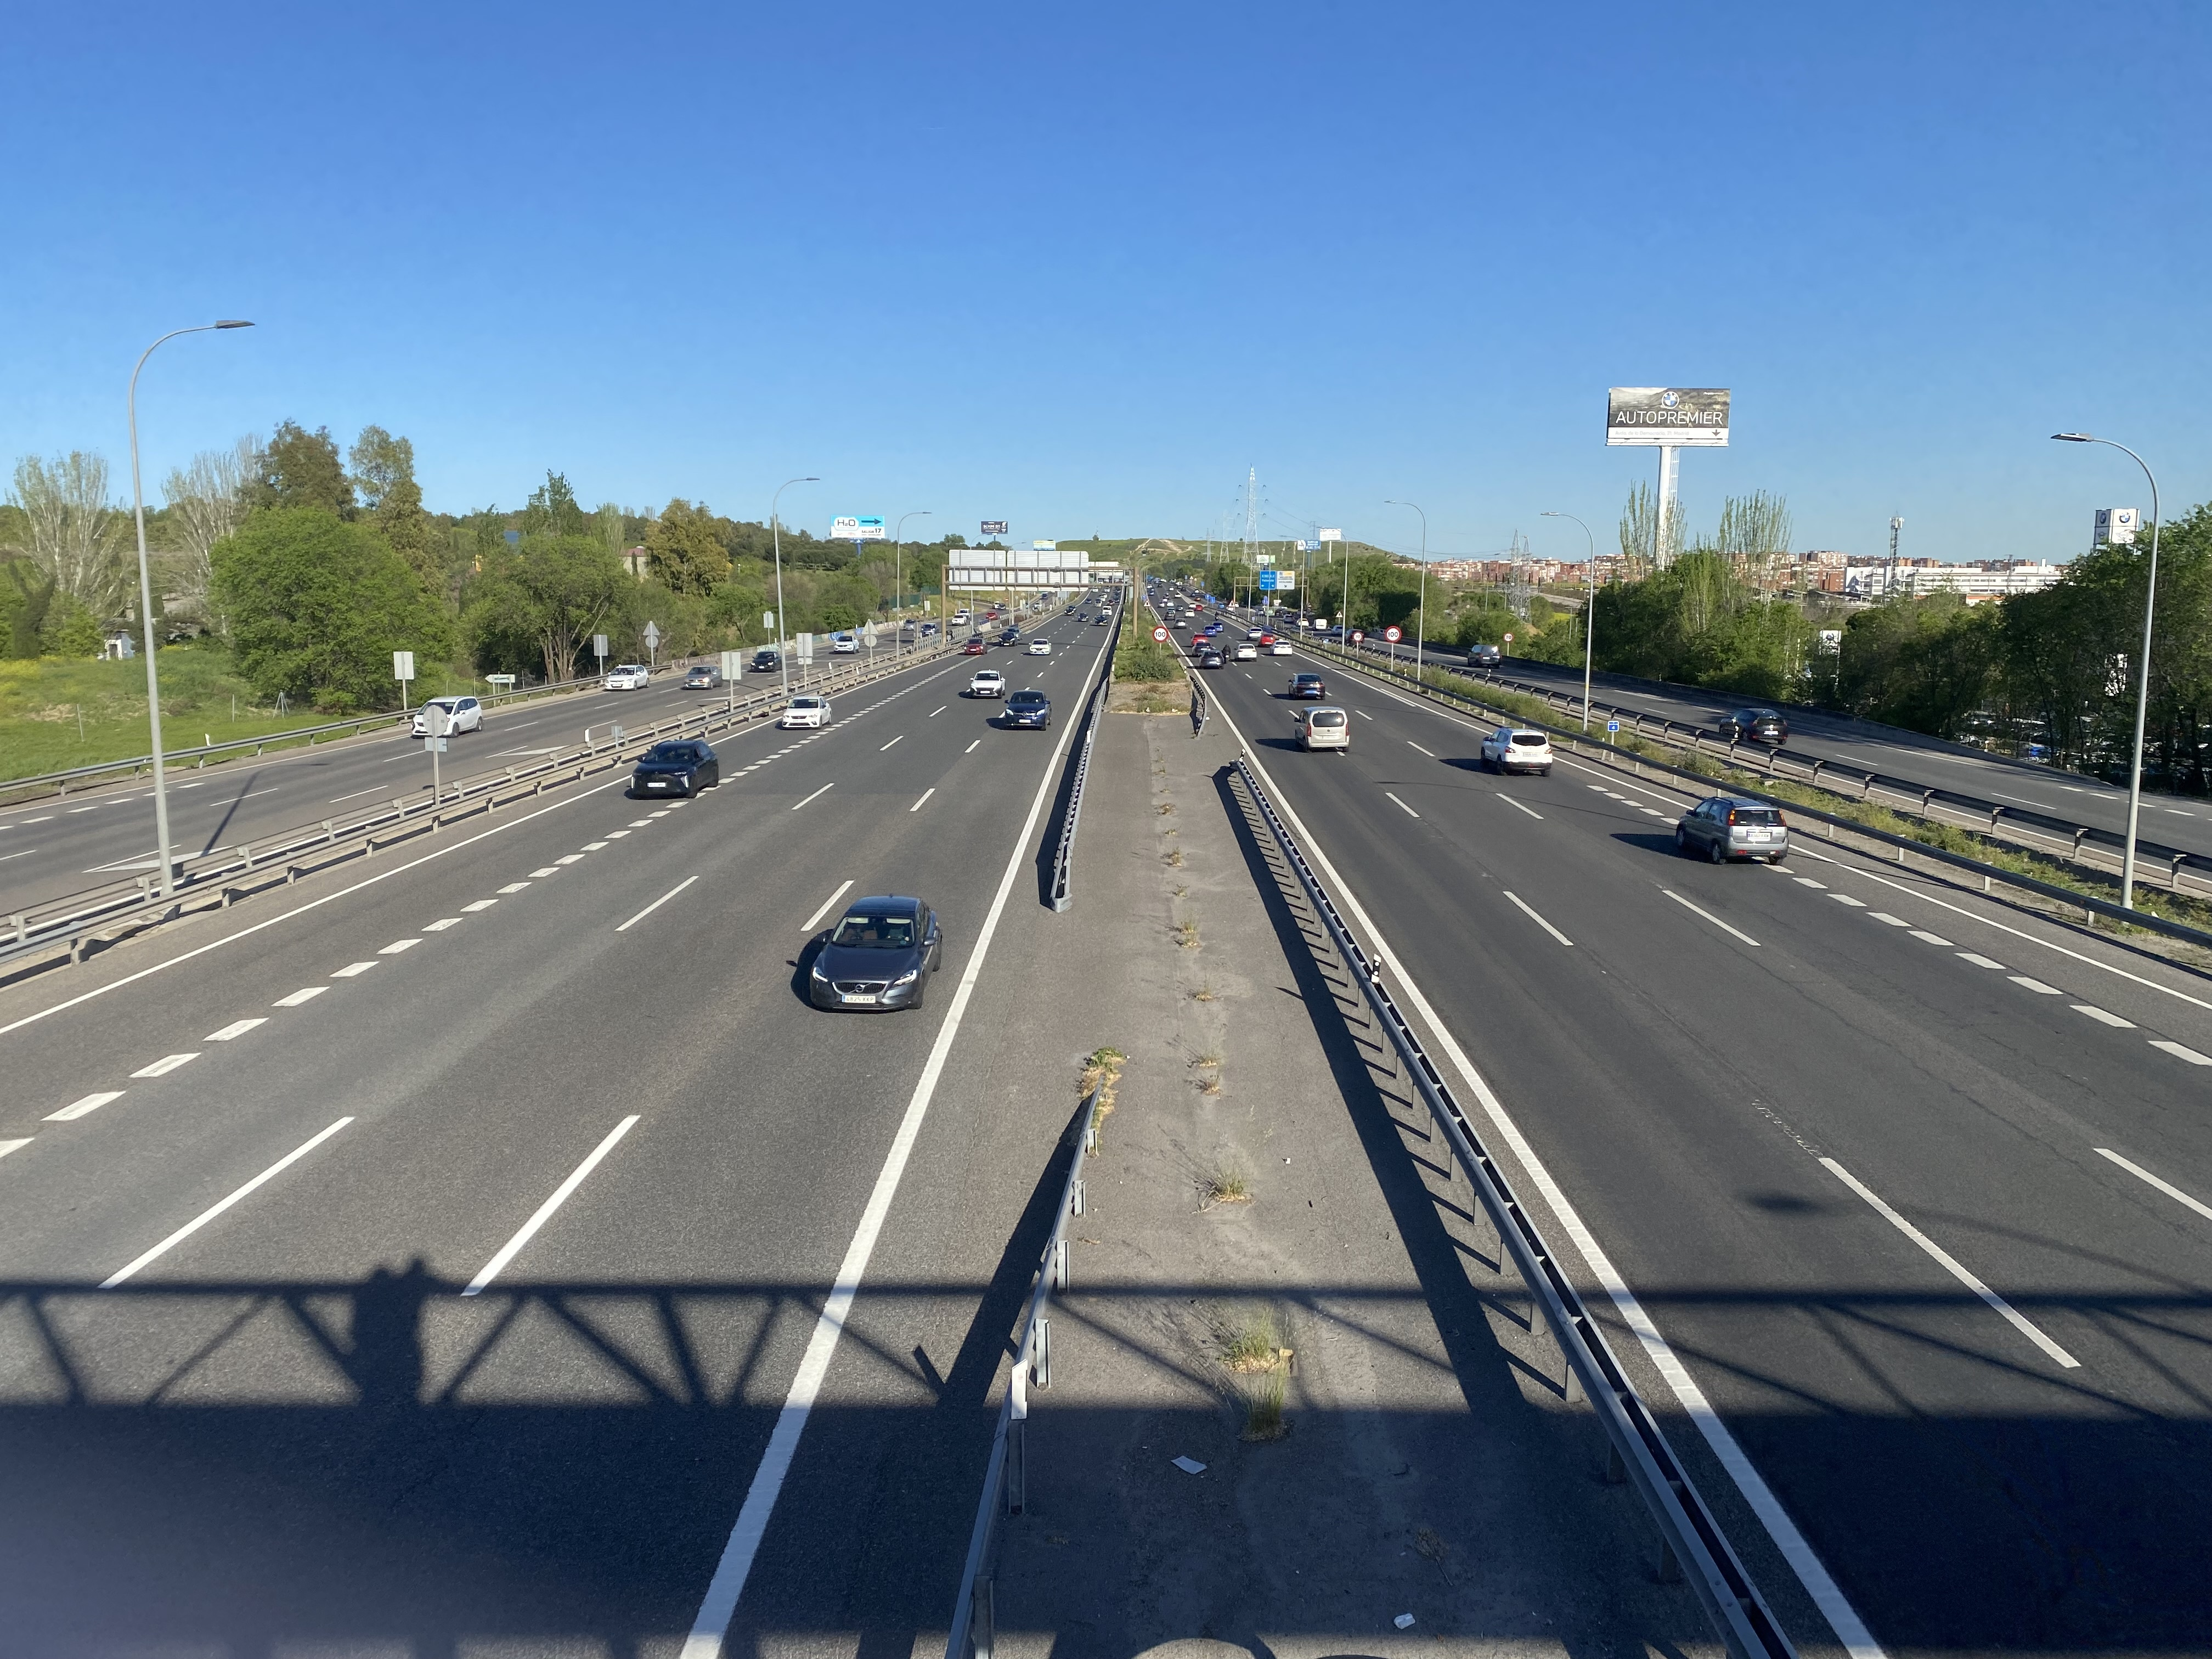cars: (809, 895, 941, 1010), (1675, 797, 1788, 864), (627, 740, 719, 797), (1481, 726, 1553, 775), (410, 696, 483, 737), (1718, 709, 1788, 747), (1297, 705, 1350, 752), (998, 690, 1050, 729), (778, 696, 832, 729), (605, 664, 650, 691), (964, 669, 1005, 698), (1287, 672, 1325, 699), (683, 664, 721, 689), (1466, 644, 1501, 668), (751, 647, 780, 672), (830, 630, 860, 654), (1194, 646, 1226, 668), (1234, 643, 1259, 662), (963, 636, 986, 657), (1027, 639, 1051, 656), (1272, 638, 1294, 657), (950, 608, 970, 628), (921, 620, 939, 637), (1192, 633, 1211, 648), (1384, 627, 1401, 642), (1204, 621, 1221, 636)
